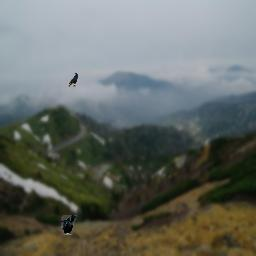Crow: (61, 215, 77, 235), (68, 72, 78, 87)
